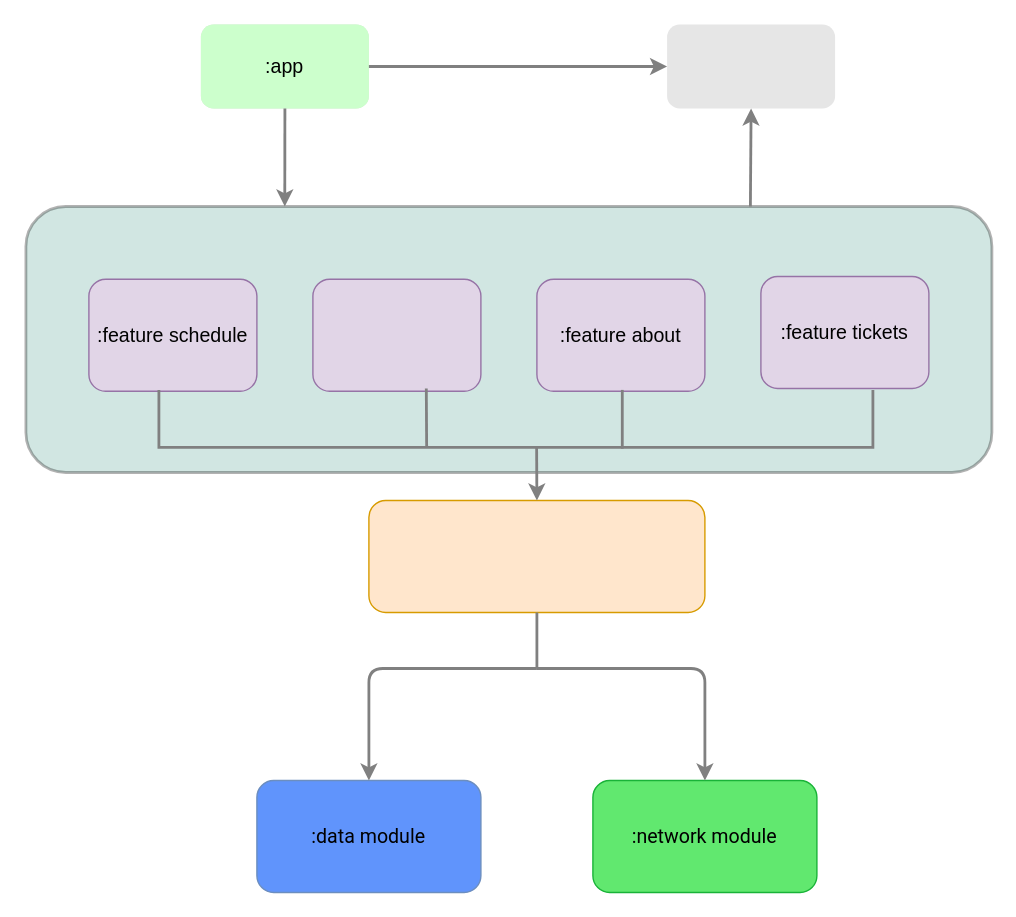
This 1016x917 diagram has some shape labels left out. Each missing label, with the centre of its shape:
":base/core" belongs at point (750, 66).
":feature feed" belongs at point (396, 334).
":repository module" belongs at point (536, 555).
